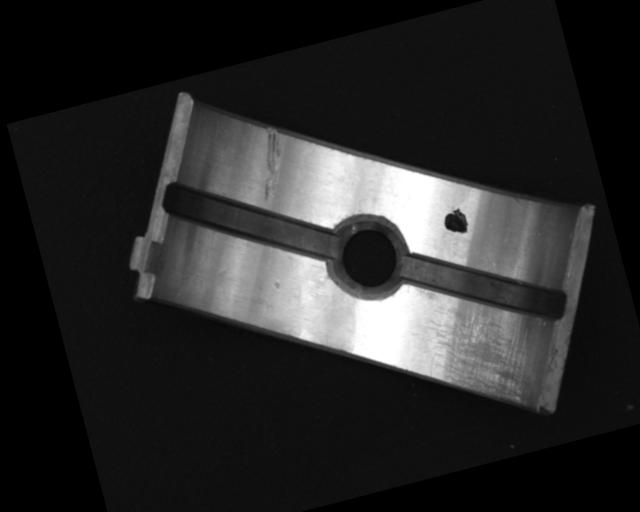blot: (440, 205, 471, 239)
bruise: (271, 276, 282, 290)
gap: (160, 148, 341, 296), (396, 219, 571, 354)
hole: (320, 208, 415, 309)
nick: (247, 123, 295, 202)
scratch: (415, 285, 548, 423)
